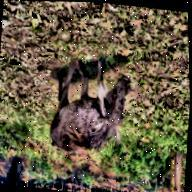boar: (40, 56, 145, 169)
